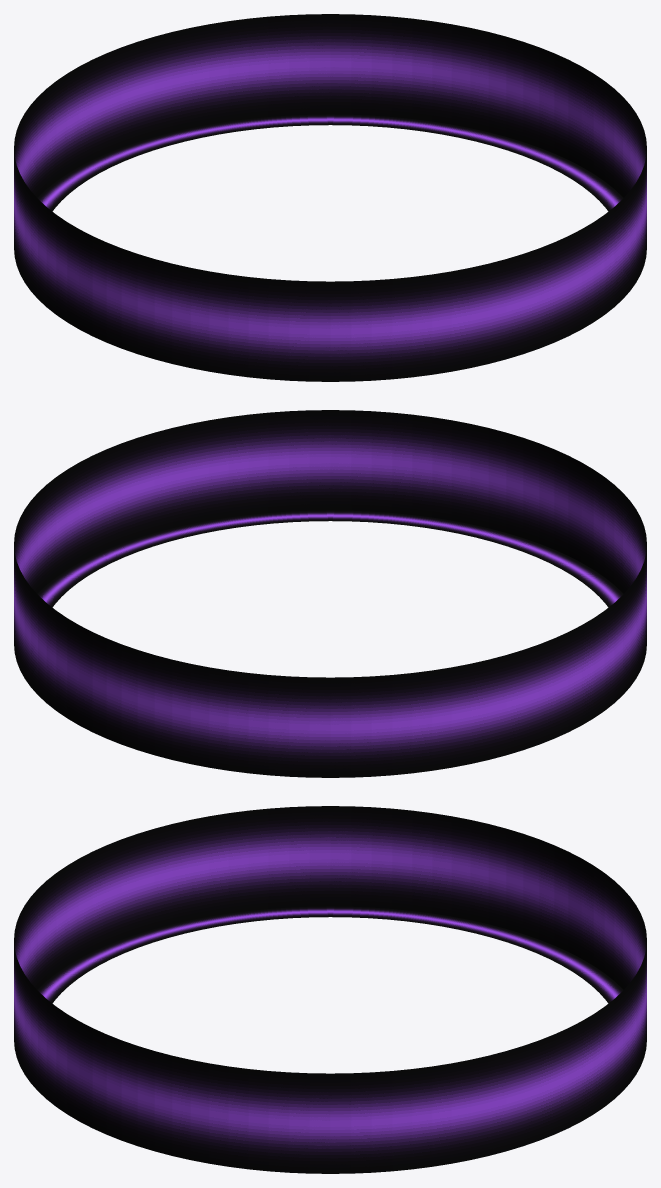
Rendered from pulse_ring.fbx.
The picture shows the model from 3 angles, top to bottom: view 1: azimuth 30°, elevation 25°; view 2: azimuth 150°, elevation 25°; view 3: azimuth 270°, elevation 25°; orthographic projection.
Parts seen in each view (by area): view 1: pulse; view 2: pulse; view 3: pulse.
Boxes of the visible parts, box(x1,y1,x2,y2) form: pulse: box(14, 14, 646, 381); pulse: box(14, 410, 646, 777); pulse: box(14, 806, 646, 1173).
Size of the model in its own units: 2 by 0.35 by 2.
